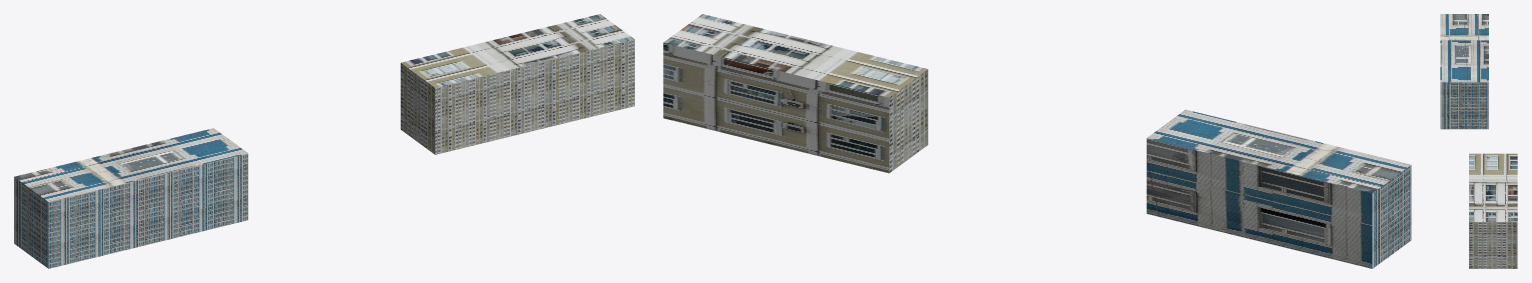
The model's file is Дома.fbx.
The picture shows the model from 3 angles, left to right: view 1: azimuth 30°, elevation 25°; view 2: azimuth 150°, elevation 25°; view 3: azimuth 270°, elevation 25°; orthographic projection. The views are drawn at different scales.
Parts seen in each view (by area): view 1: Куб.383, Куб.388; view 2: Куб.383, Куб.388; view 3: Куб.383, Куб.388.
Part boxes in pixels (<box>): Куб.383: <box>14,128,248,268</box>; Куб.388: <box>400,14,634,154</box>; Куб.383: <box>1146,109,1411,268</box>; Куб.388: <box>663,14,928,173</box>; Куб.383: <box>1440,14,1488,129</box>; Куб.388: <box>1469,153,1517,268</box>.
Size of the model in its own units: 60735 by 6400 by 9510.
2 materials, 2 textured.
